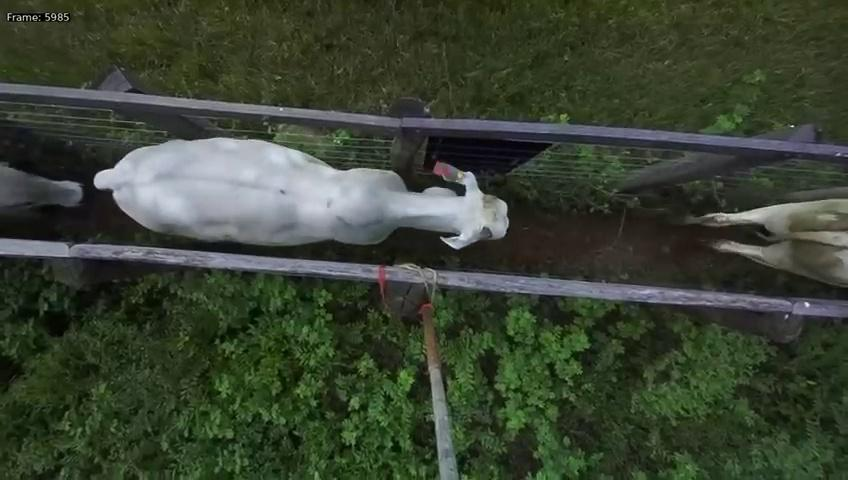cattle: (89, 130, 509, 253)
